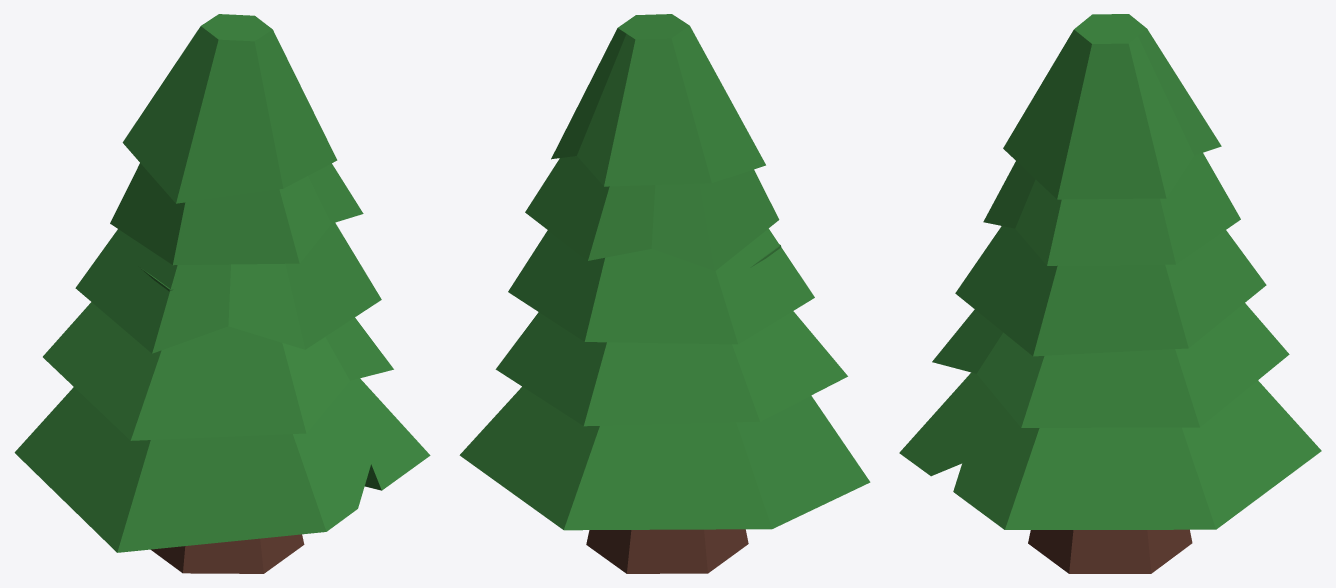
File: Pine.fbx
The picture shows the model from 3 angles, left to right: view 1: azimuth 30°, elevation 25°; view 2: azimuth 150°, elevation 25°; view 3: azimuth 270°, elevation 25°; orthographic projection.
Visible parts, largest first — view 1: Cylinder.007; view 2: Cylinder.007; view 3: Cylinder.007.
Boxes of the visible parts, box(x1,y1,x2,y2) form: Cylinder.007: box(14, 14, 430, 573); Cylinder.007: box(459, 14, 870, 573); Cylinder.007: box(899, 14, 1321, 573).
Size of the model in its own units: 631 by 862 by 546.
